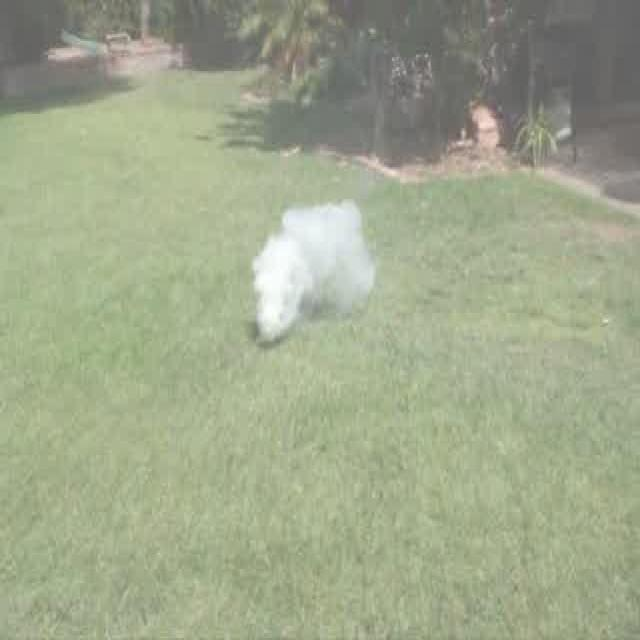Smoke: (251, 198, 376, 346)
